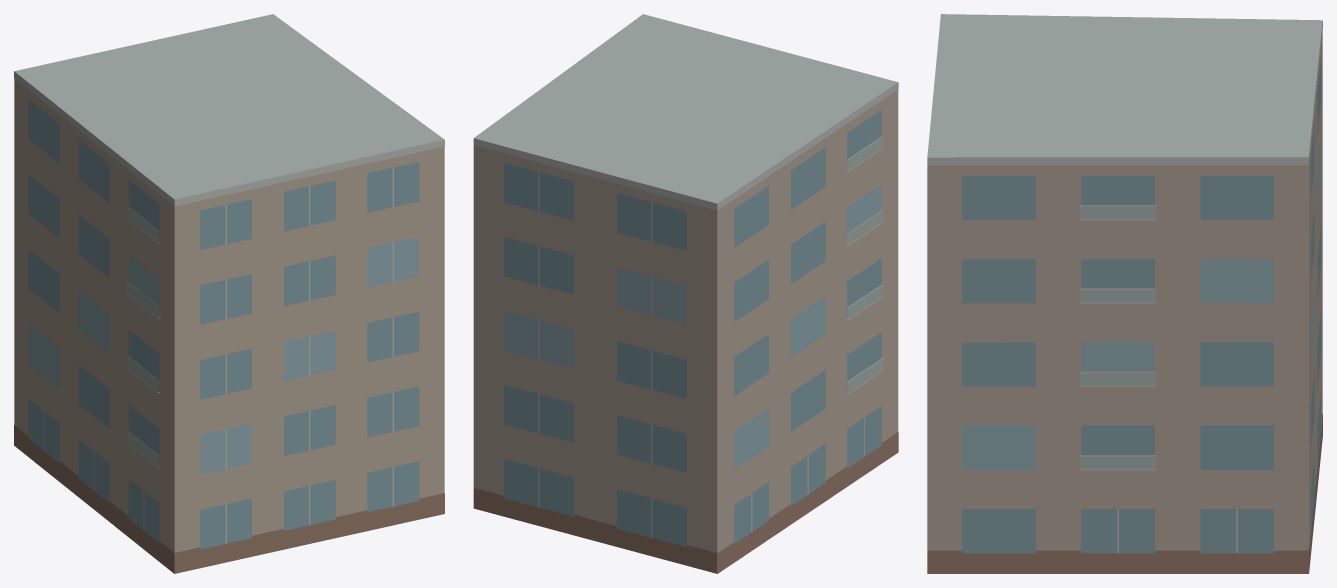
Rendered from survey-upis-32933357.glb.
3 renders of one model, left to right at view 1: azimuth 30°, elevation 25°; view 2: azimuth 150°, elevation 25°; view 3: azimuth 270°, elevation 25°, orthographic. The views are drawn at different scales.
Visible parts, largest first — view 1: survey-upis-32933357.tmp; view 2: survey-upis-32933357.tmp; view 3: survey-upis-32933357.tmp.
Part boxes in pixels (x1,y1,x2,y2): survey-upis-32933357.tmp: (14, 14, 444, 573); survey-upis-32933357.tmp: (473, 14, 898, 573); survey-upis-32933357.tmp: (927, 14, 1322, 573).
Size of the model in its own units: 9.75 by 13.14 by 11.32.
